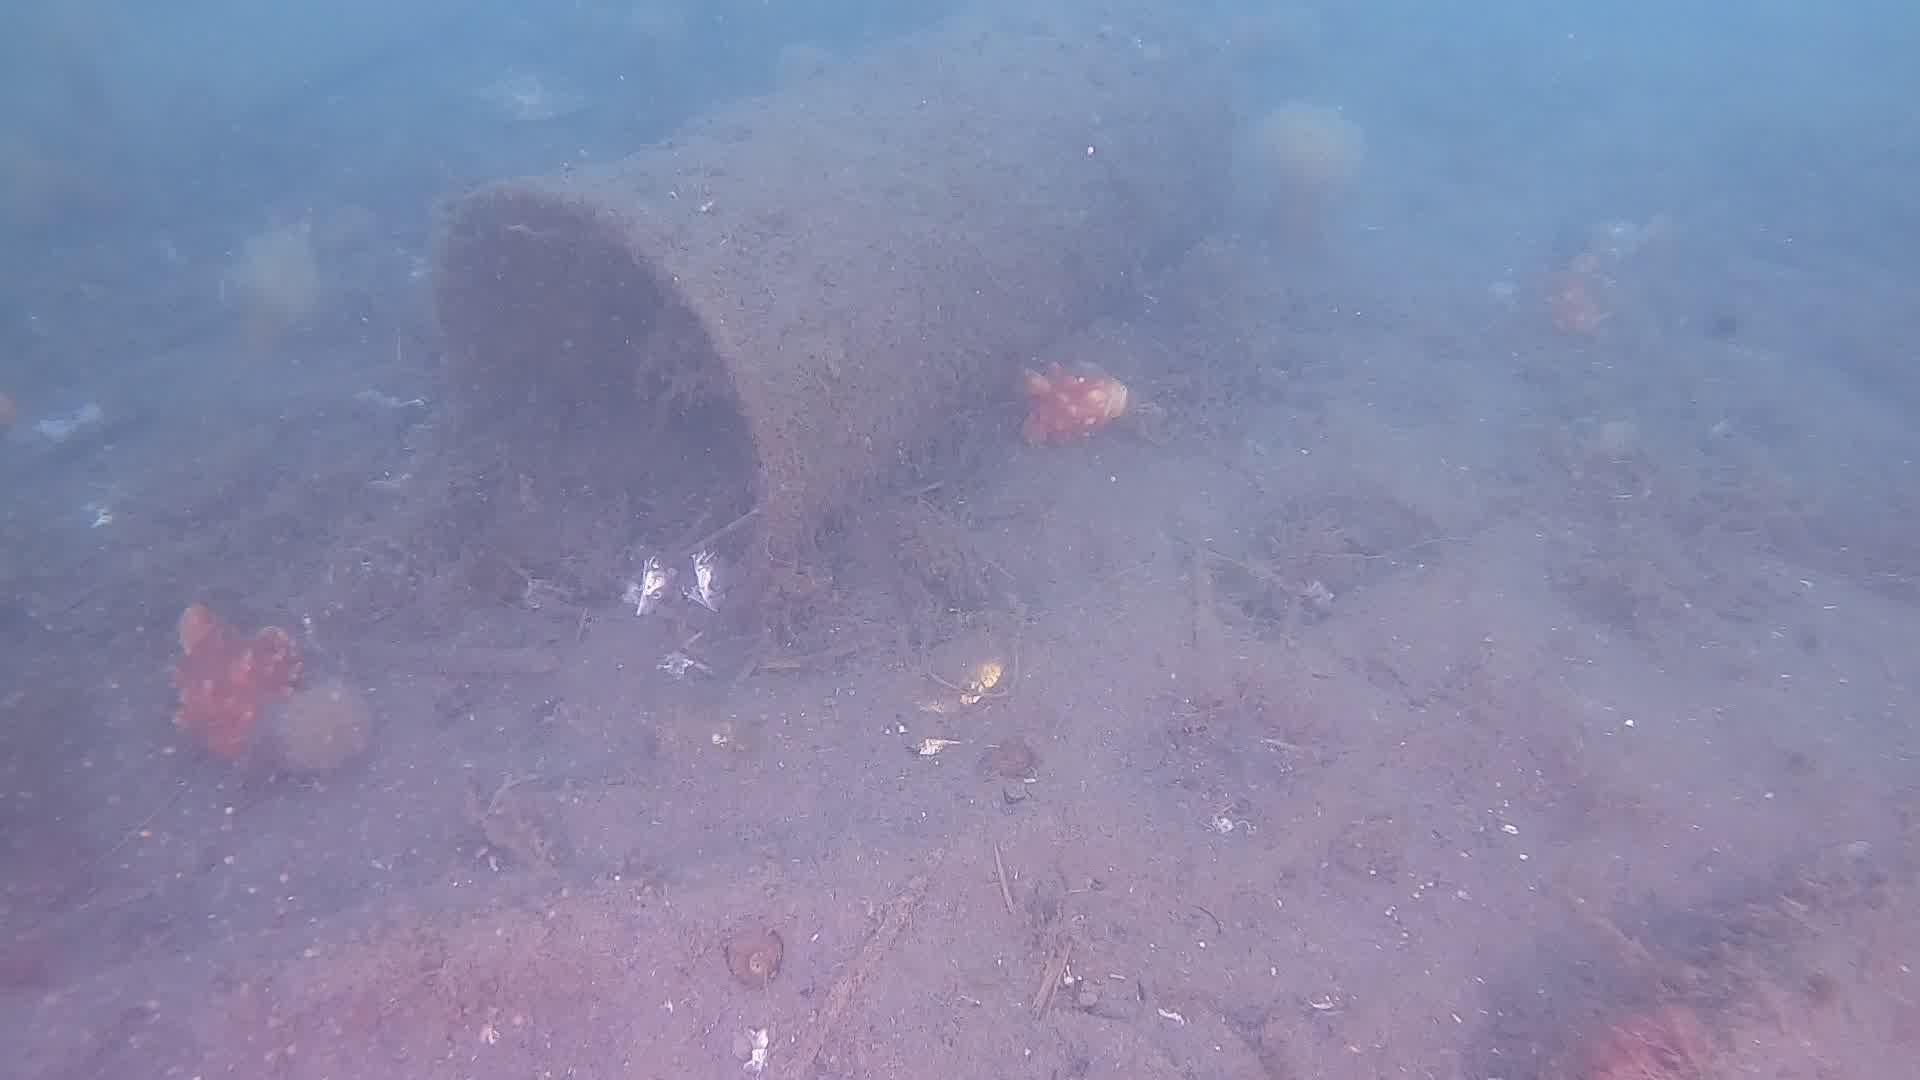spring fish trap: (418, 26, 1237, 603)
